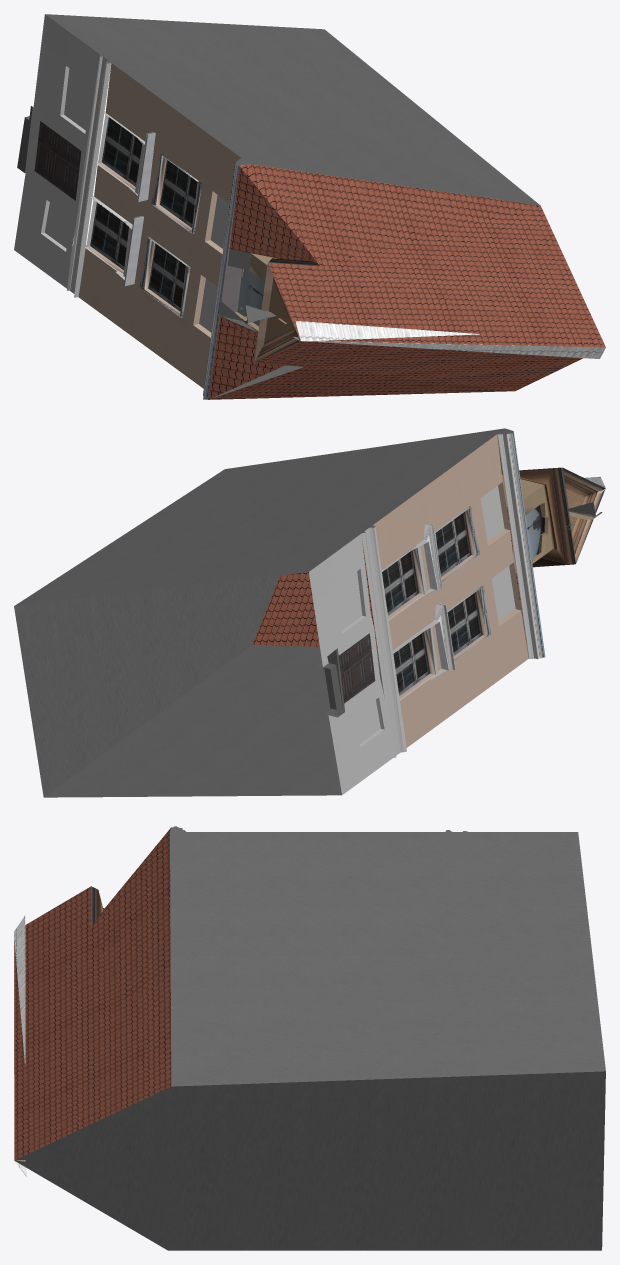
The model's file is Kullassepa_9-origo.obj.
The picture shows the model from 3 angles, top to bottom: view 1: azimuth 30°, elevation 25°; view 2: azimuth 150°, elevation 25°; view 3: azimuth 270°, elevation 25°; orthographic projection. The views are drawn at different scales.
Parts seen in each view (by area): view 1: Kullassepa_9; view 2: Kullassepa_9; view 3: Kullassepa_9.
Boxes of the visible parts, x1=… form: Kullassepa_9: x1=14, y1=14, x2=605, y2=399; Kullassepa_9: x1=14, y1=428, x2=605, y2=797; Kullassepa_9: x1=14, y1=826, x2=605, y2=1250.
Bounding box in the file's own units: 11.12 × 9 × 16.64.
